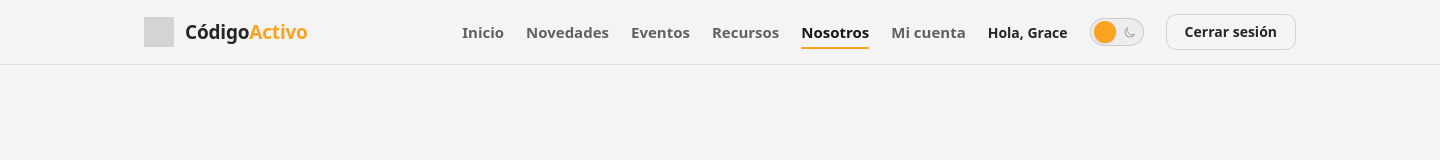
Test case: SiteHeader › signs out, clears the session and goes to login
Click the button with class "header__cta": (1231, 32) [1166,14,1296,50]
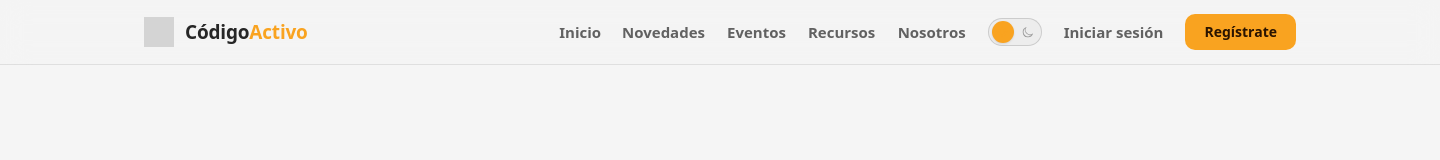
Expected: the link with class "header__login" is shown, [1064,22,1163,42]
